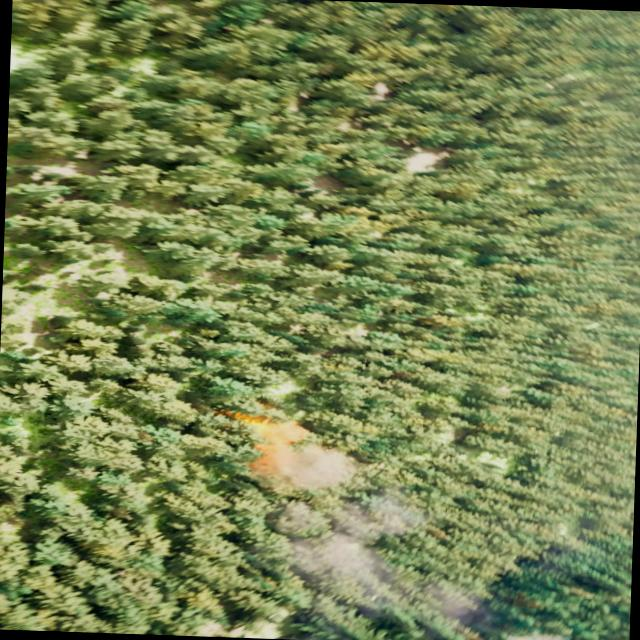smoke: (242, 416, 494, 617)
